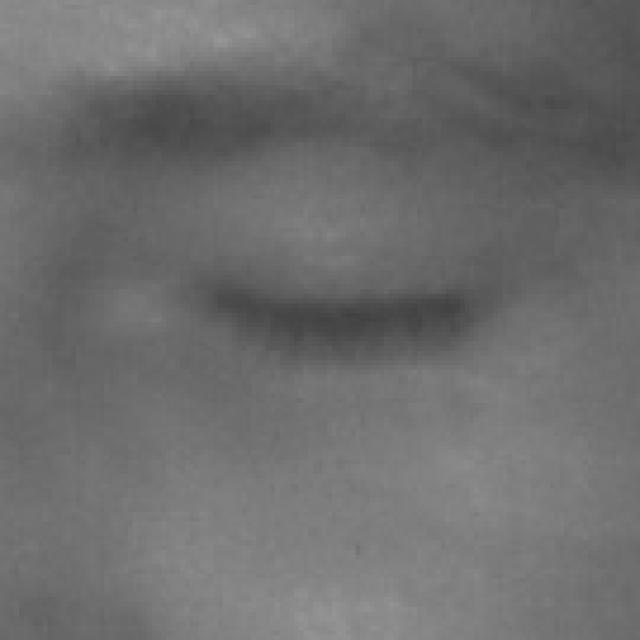Eyeclosed: (212, 179, 488, 456)
